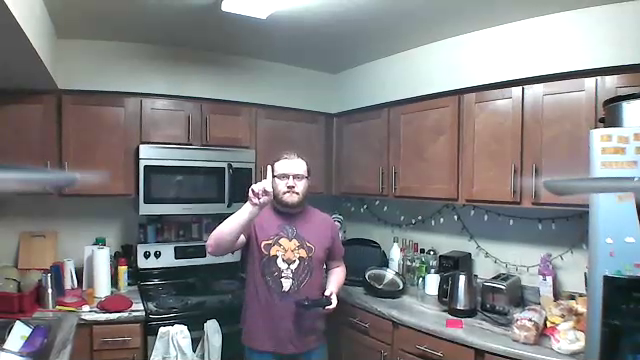up: (244, 162, 277, 209)
